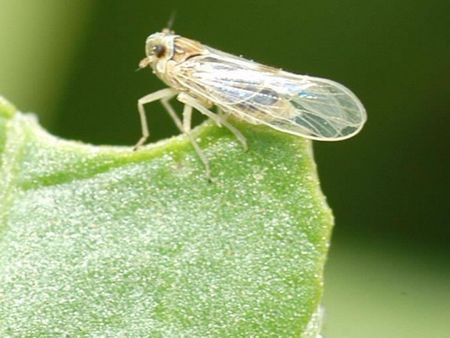Delphacidae: (131, 11, 367, 185)
